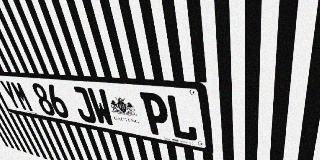6: (43, 84, 71, 119)
8: (30, 83, 57, 116)
J: (69, 86, 98, 124)
L: (165, 94, 198, 142)
M: (9, 81, 35, 112)
P: (140, 92, 172, 137)
W: (86, 87, 116, 127)
Y: (0, 80, 23, 110)
